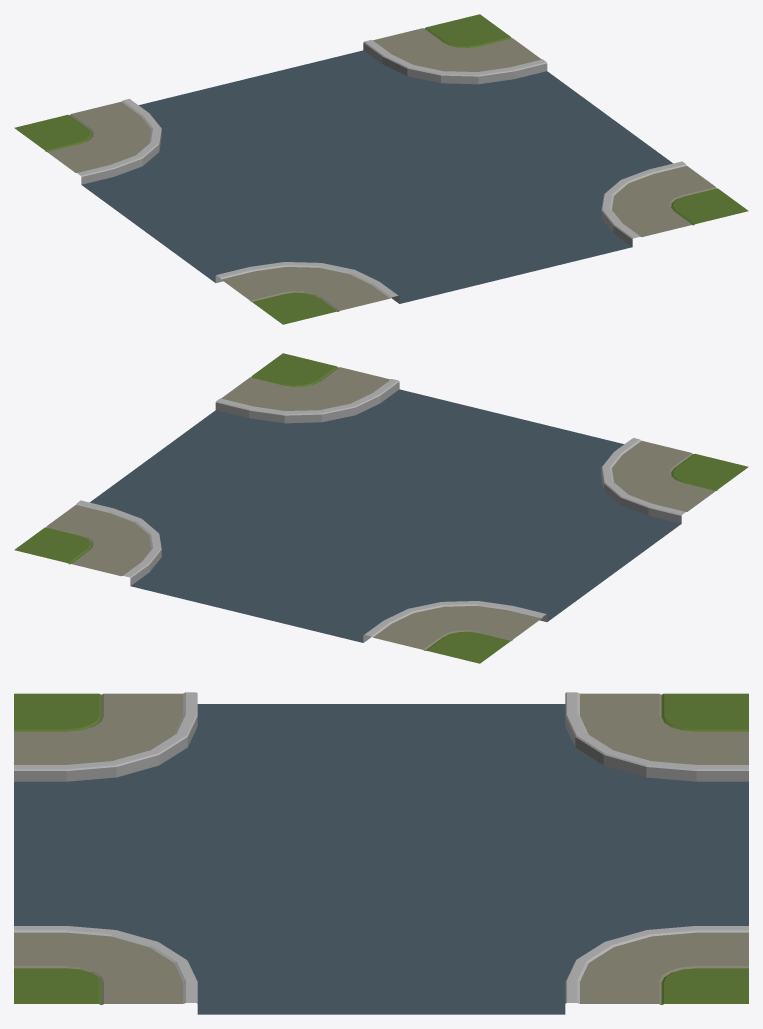
The model's file is Road Intersection.fbx.
3 views of the same model, one above another, from view 1: azimuth 30°, elevation 25°; view 2: azimuth 150°, elevation 25°; view 3: azimuth 270°, elevation 25° (orthographic). The views are drawn at different scales.
Parts seen in each view (by area): view 1: Circle.008; view 2: Circle.008; view 3: Circle.008.
Part boxes in pixels (x1,y1,x2,y2): Circle.008: [14, 14, 748, 324]; Circle.008: [14, 353, 748, 663]; Circle.008: [14, 692, 748, 1014].
Size of the model in its own units: 3.4 by 0.06 by 3.4.
